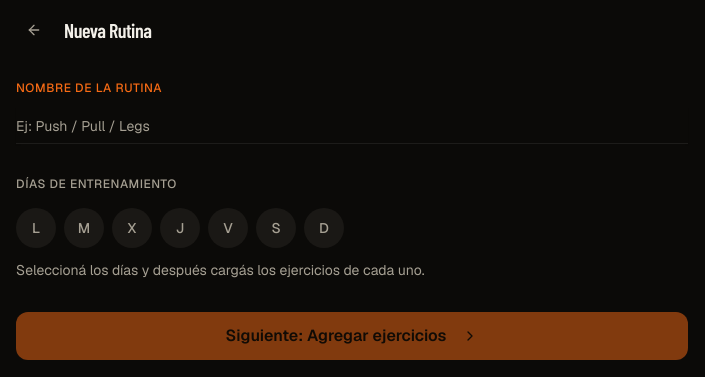
Test: RoutineForm — días de una rutina nueva › habilita Siguiente con un nombre y un día tocado
Type "Rutina nueva" into the field with placeholder "Ej: Push / Pull / Legs". click: (352, 126)
box: [16,108,688,144]
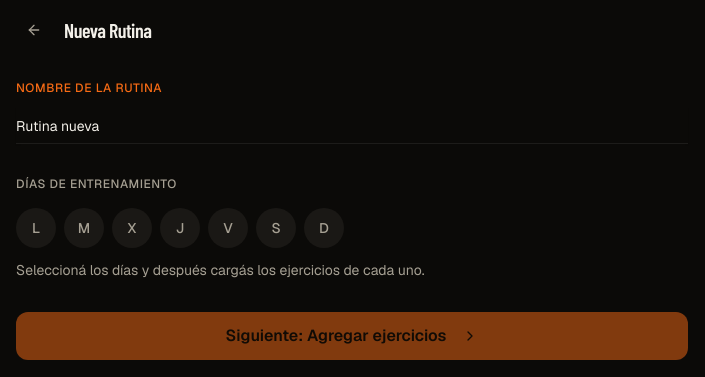
Click the button "L". click: (36, 228)
box: [16,208,56,248]
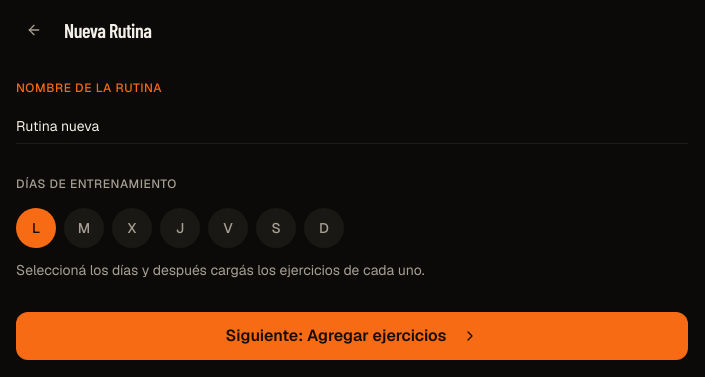
Result: the button "Siguiente: Agregar ejercicios" is enabled at [16,312,688,360]
